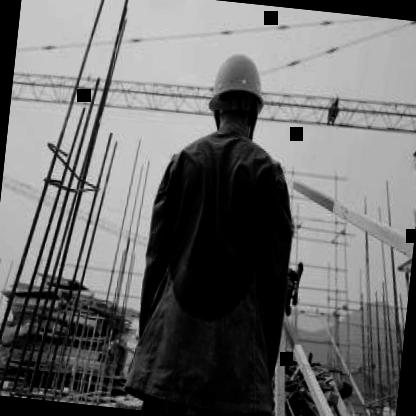helmet: (200, 42, 273, 150)
